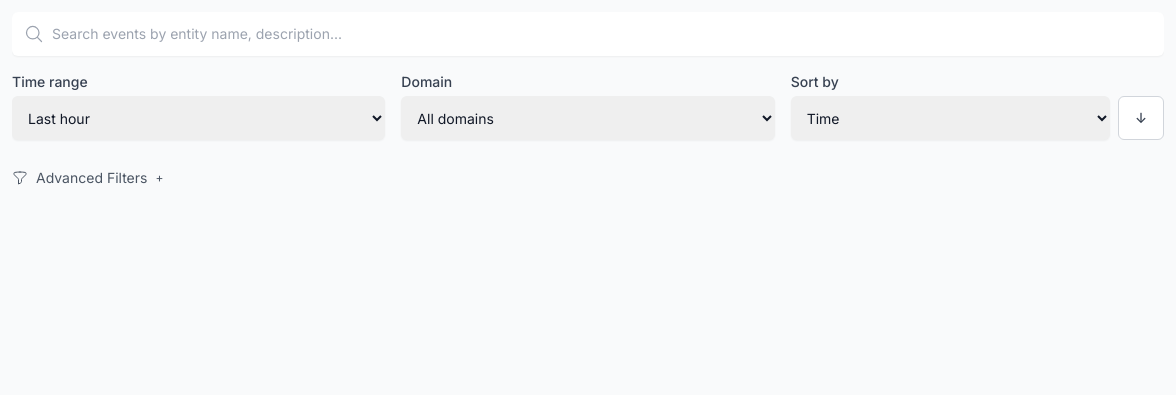
EventFilters Component › should show event type checkboxes when advanced filters are open
Open advanced filters
Click the text "Advanced Filters" at (92,178), box [36,168,147,188]
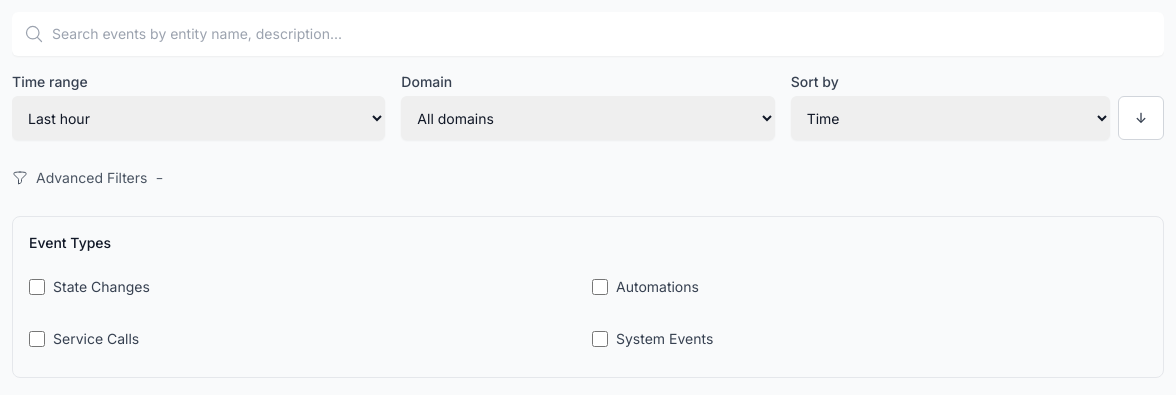
Expected: the checkbox labelled "State Changes" is shown, [29,265,45,309]
Expected: the checkbox labelled "Automations" is shown, [592,265,608,309]
Expected: the checkbox labelled "Service Calls" is shown, [29,317,45,361]
